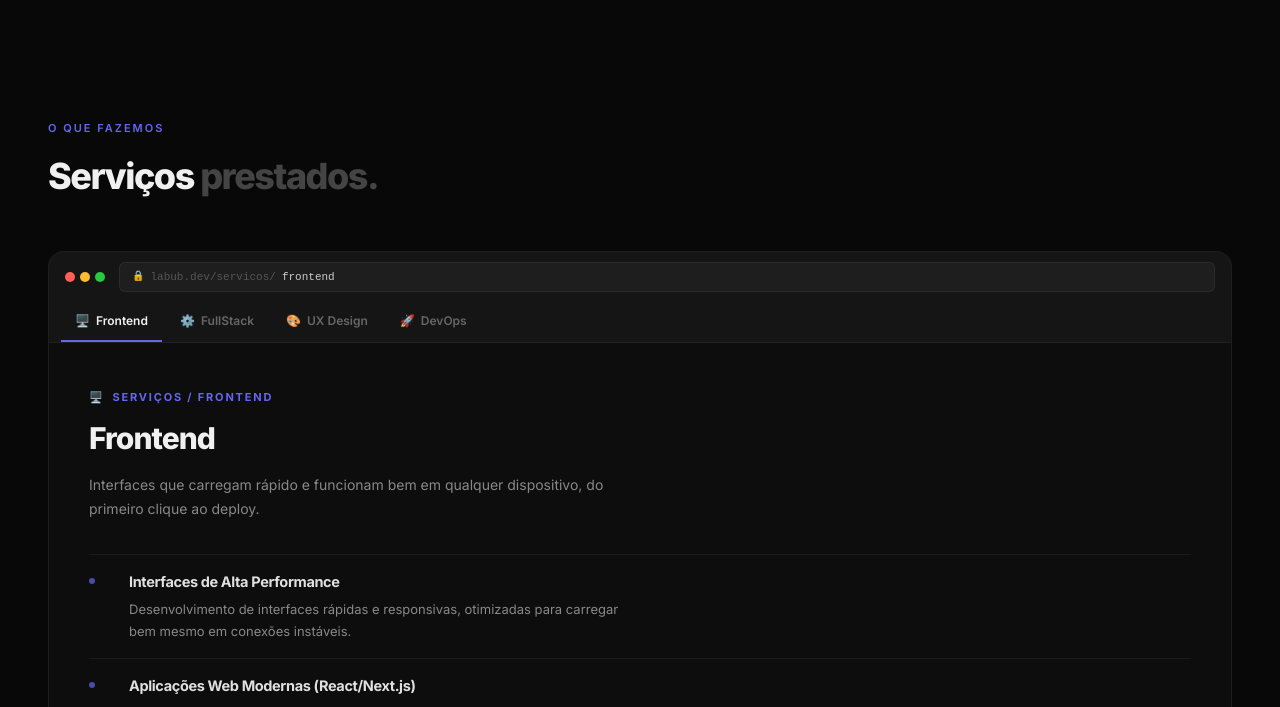
it: ServicesBrowser › switches to DevOps services when the DevOps tab is clicked
Click the button "🚀 DevOps": [433, 322] box [386,302,481,342]
(page scrolled)
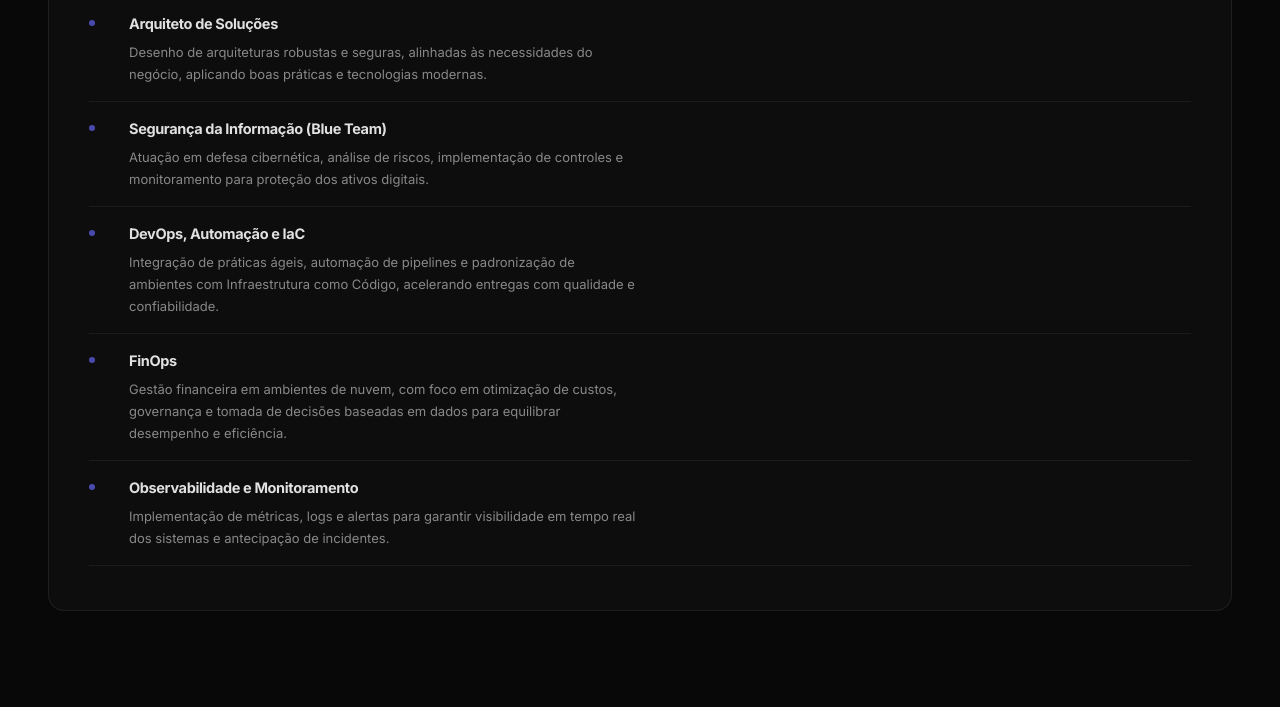
Expected: the heading "FinOps" is shown, [129,352,177,369]
Expected: the heading "Interfaces de Alta Performance" is gone
